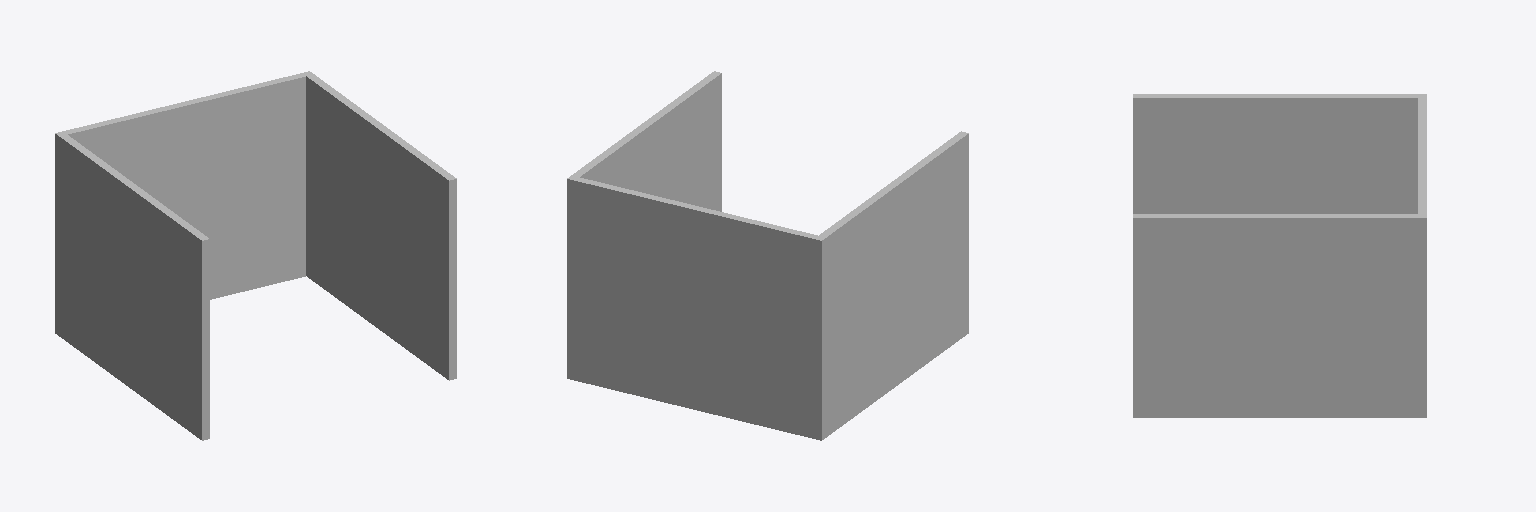
The model's file is 3D Voxel Office Pack-153.obj.
The picture shows the model from 3 angles: view 1: azimuth 30°, elevation 25°; view 2: azimuth 150°, elevation 25°; view 3: azimuth 270°, elevation 25°; orthographic projection.
Visible parts, largest first — view 1: object 1; view 2: object 1; view 3: object 1.
Part boxes in pixels (x1,y1,x2,y2): object 1: (55,71,456,440); object 1: (567,71,968,440); object 1: (1133,94,1426,417).
Bounding box in the file's own units: 3.2 × 2.4 × 3.2.